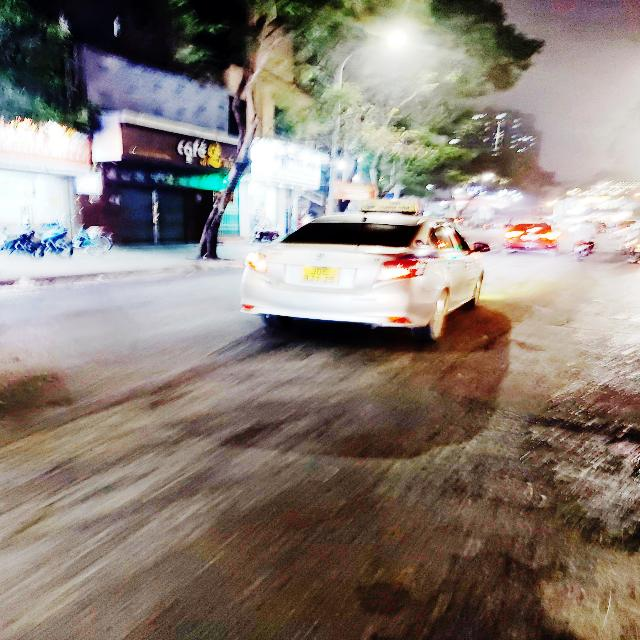license_plate: (297, 265, 343, 288)
